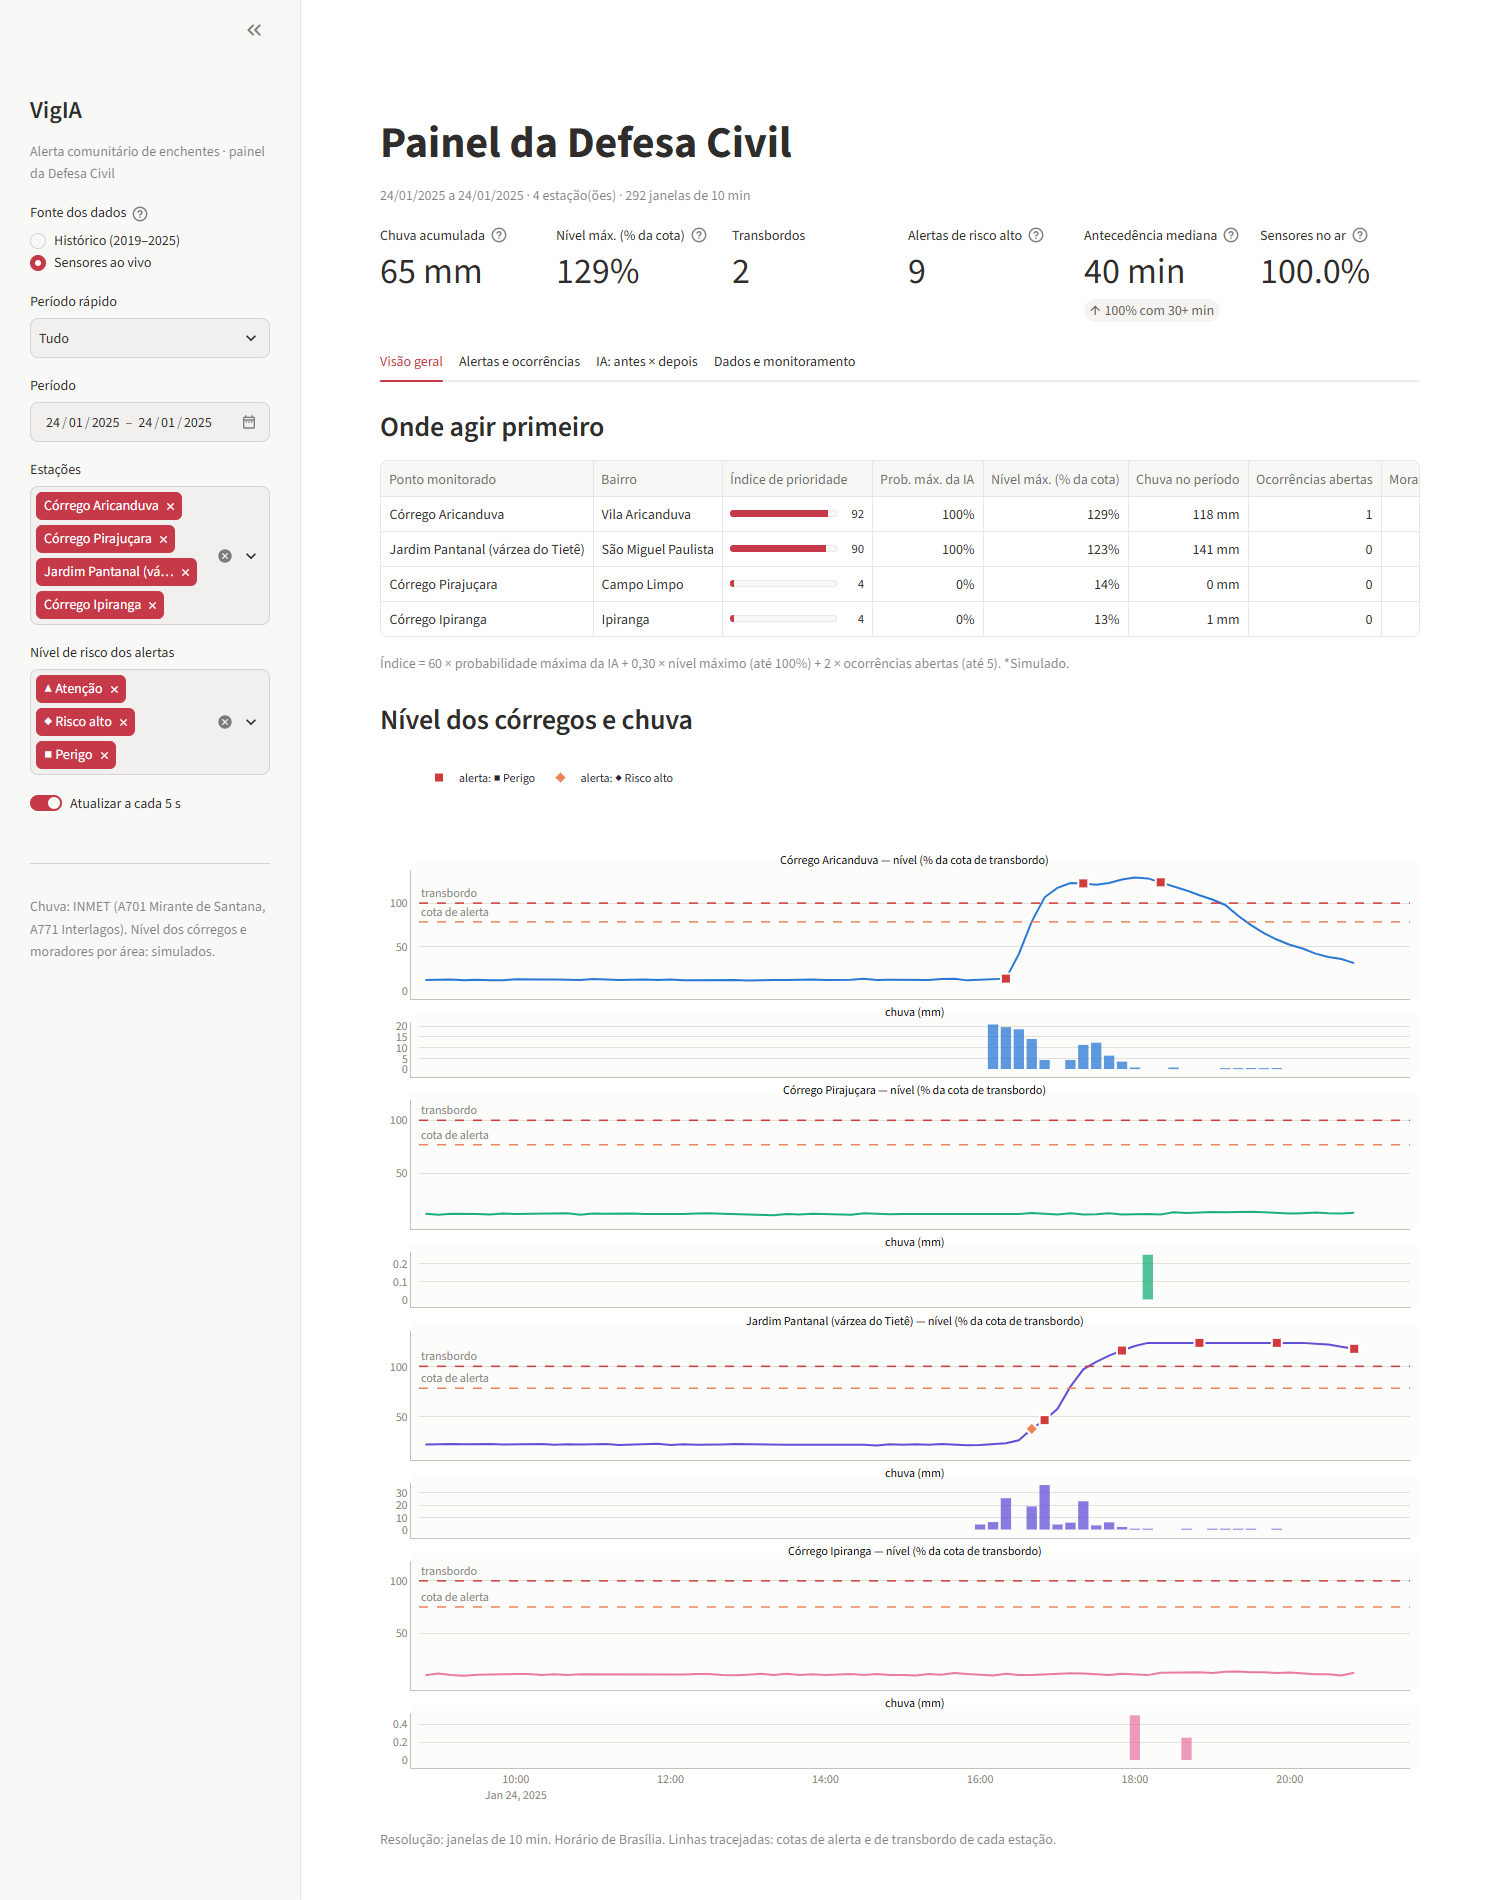

Layout of this report page (visuals, bound fields, positions):
{"tool":"powerbi","page":{"name":"Página 1","canvas":[1920,1080],"ordinal":0},"visuals":[{"type":"htmlContent443BE3AD55E043BF878BED274D3A6855","fields":{"content":["Medidas.VigIA Painel HTML"]},"box":[0,0,1920,1079.6],"z":0},{"type":"slicer","fields":{"Values":["dim_data.data"]},"box":[42.3,134.2,300.5,52.5],"z":1},{"type":"slicer","fields":{"Values":["dim_estacao.nome"]},"box":[367.7,137.1,356,52.5],"z":2}]}

Visuals, with their boxes on the page's 1920x1080 design canvas (x1, y1, x2, y2). These are canvas units, not pixel positions in the 1500x1900 screenshot, which may show the page scaled, cropped or inside an application window:
htmlContent443BE3AD55E043BF878BED274D3A6855 - Medidas.VigIA Painel HTML: Rect(0, 0, 1920, 1080)
slicer - dim_data.data: Rect(42, 134, 343, 187)
slicer - dim_estacao.nome: Rect(368, 137, 724, 190)
